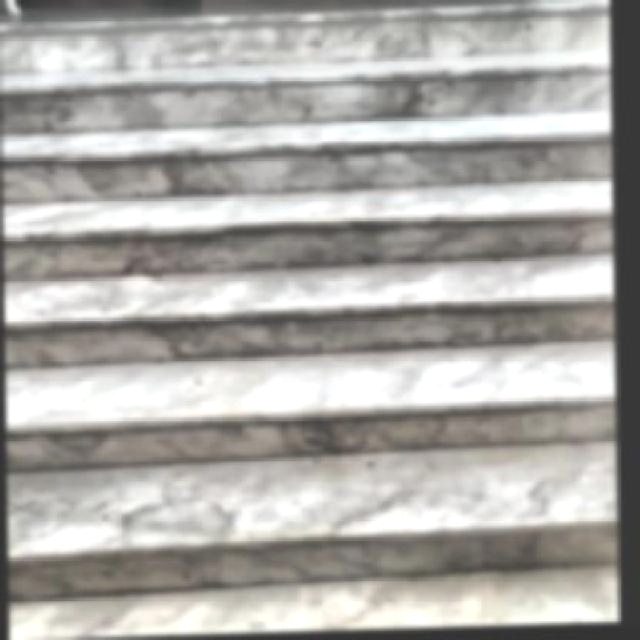stair: (0, 0, 638, 640)
